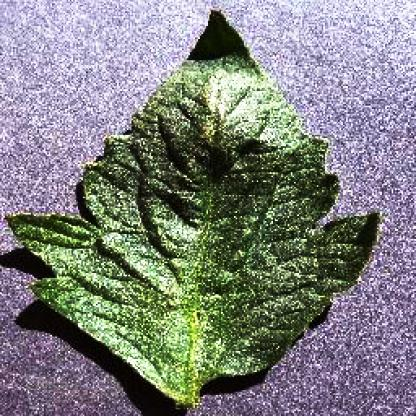Healthy: (3, 6, 376, 408)
